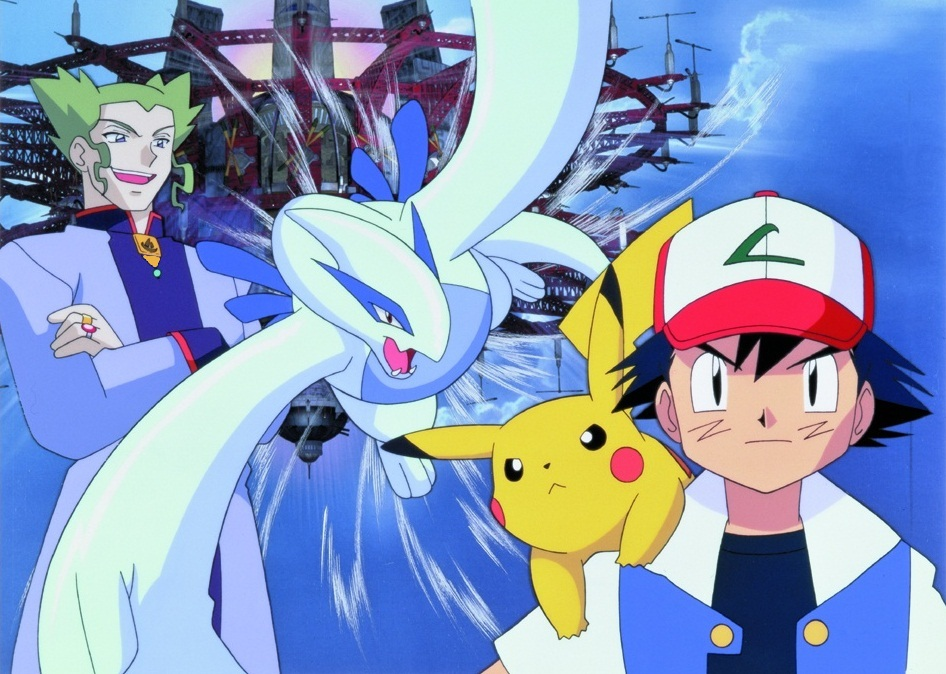lugia: (196, 89, 548, 501)
